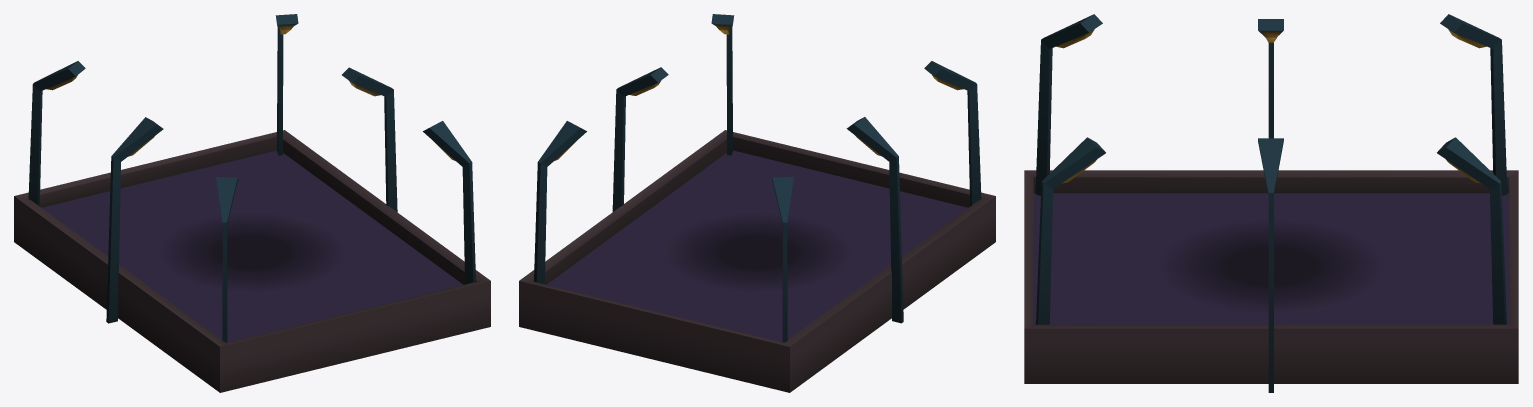
The model's file is Arena.fbx.
The picture shows the model from 3 angles, left to right: view 1: azimuth 30°, elevation 25°; view 2: azimuth 150°, elevation 25°; view 3: azimuth 270°, elevation 25°; orthographic projection. The views are drawn at different scales.
Parts seen in each view (by area): view 1: Plane.001, Plane, Circle, Plane.002, Plane.003; view 2: Plane.001, Plane, Circle, Plane.002, Plane.003; view 3: Plane.001, Plane, Circle, Plane.002, Plane.003.
Part boxes in pixels (x1,y1,x2,y2): Plane.001: [14, 130, 490, 392]; Plane: [42, 150, 463, 342]; Circle: [131, 201, 373, 303]; Plane.002: [28, 14, 475, 342]; Plane.003: [106, 67, 397, 323]; Plane.001: [519, 130, 995, 392]; Plane: [546, 150, 967, 342]; Circle: [636, 201, 878, 303]; Plane.002: [534, 14, 981, 342]; Plane.003: [612, 67, 903, 323]; Plane.001: [1024, 170, 1518, 383]; Plane: [1033, 193, 1509, 324]; Circle: [1124, 204, 1418, 324]; Plane.002: [1035, 14, 1507, 324]; Plane.003: [1258, 19, 1283, 392].
Size of the model in its own units: 2134 by 1344 by 2626.
